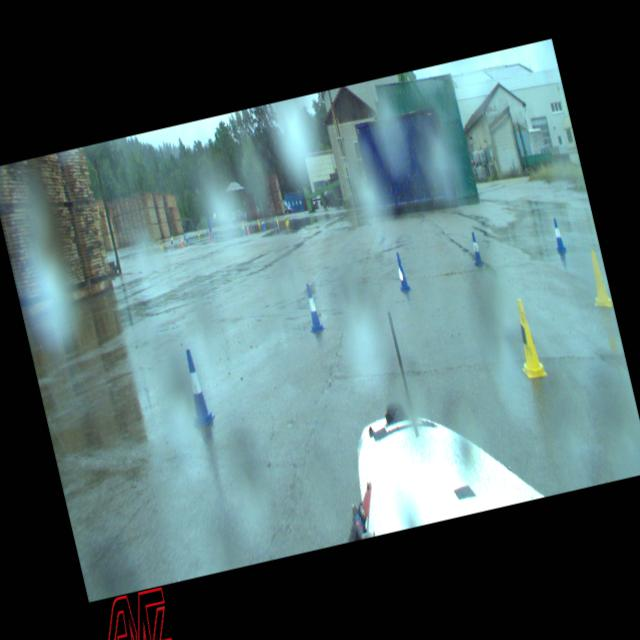blue_cone: (177, 346, 216, 426), (300, 283, 325, 333), (392, 251, 411, 292), (550, 218, 566, 253), (468, 230, 483, 266), (240, 224, 244, 234), (272, 219, 276, 228), (260, 219, 264, 228), (169, 234, 173, 243), (184, 233, 188, 242), (196, 228, 200, 236), (262, 218, 265, 226), (183, 232, 186, 240), (249, 219, 252, 226), (210, 230, 213, 237)
orange_cone: (180, 234, 184, 246), (207, 230, 211, 240), (246, 224, 250, 233)
yellow_cone: (506, 295, 546, 380), (582, 247, 612, 310), (159, 239, 163, 249), (284, 215, 288, 224), (274, 214, 278, 222), (152, 238, 156, 246), (256, 218, 260, 225), (286, 214, 288, 222), (172, 234, 174, 242), (242, 220, 244, 228)
